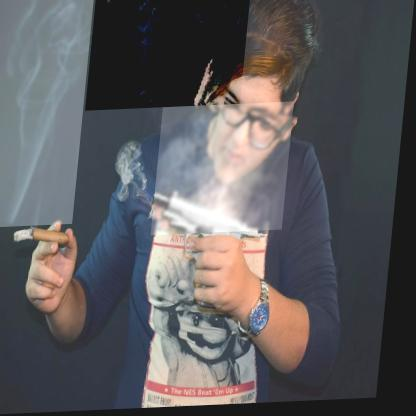smoke: (0, 0, 94, 228), (156, 104, 296, 237), (87, 0, 251, 112)
